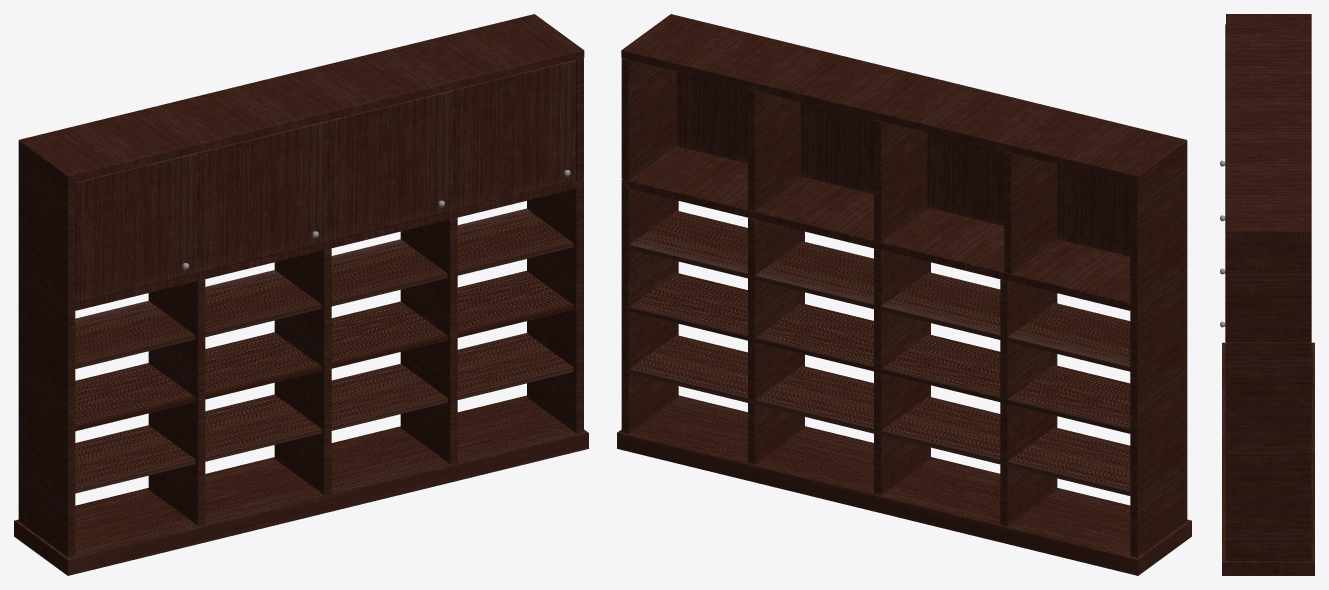
File: Closet 2.FBX
The picture shows the model from 3 angles, left to right: view 1: azimuth 30°, elevation 25°; view 2: azimuth 150°, elevation 25°; view 3: azimuth 270°, elevation 25°; orthographic projection. The views are drawn at different scales.
Visible parts, largest first — view 1: Closet 2; view 2: Closet 2; view 3: Closet 2.
Boxes of the visible parts, x1,y1,x2,y2 form: Closet 2: (14,14,588,575); Closet 2: (617,14,1191,575); Closet 2: (1220,14,1314,575).
Bounding box in the file's own units: 273 × 49.78 × 199.
2 materials, 1 textured.
